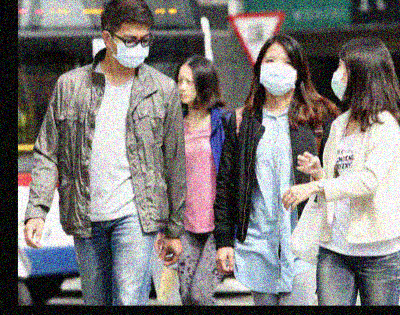with_mask: (108, 28, 150, 68), (258, 53, 298, 95), (329, 57, 349, 100)
without_mask: (174, 72, 196, 103)
